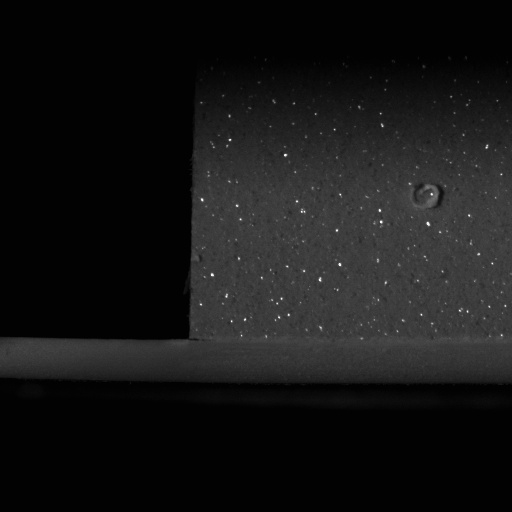changdai: (0, 335, 189, 383)
